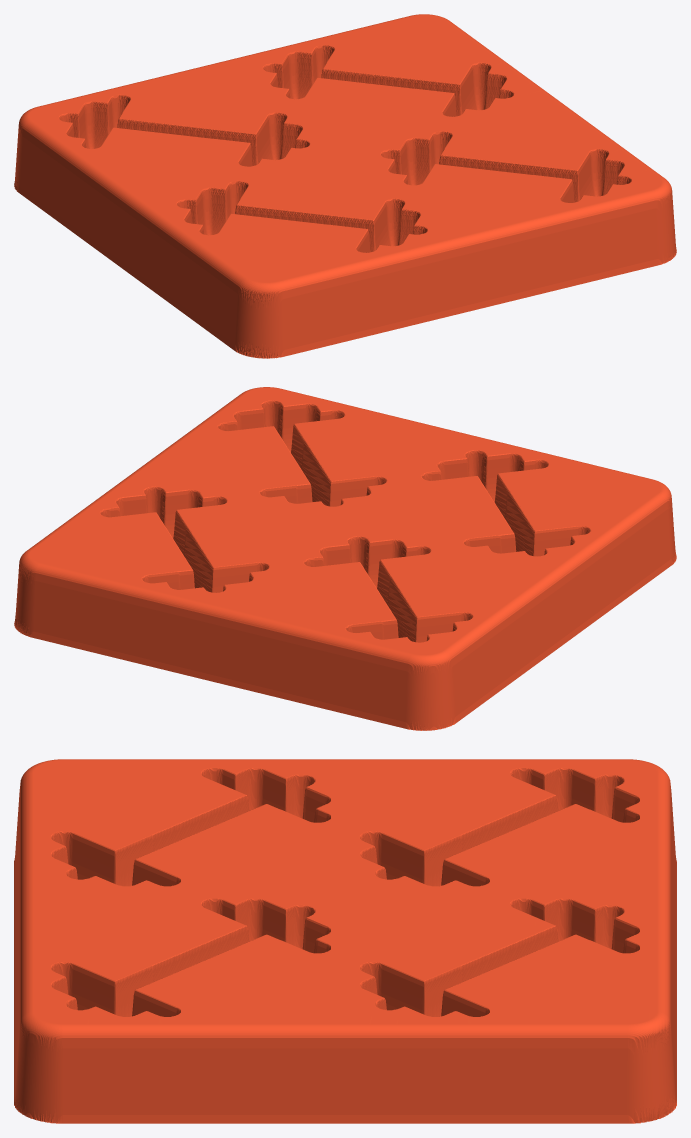
The model's file is mold.glb.
3 renders of one model, top to bottom at view 1: azimuth 30°, elevation 25°; view 2: azimuth 150°, elevation 25°; view 3: azimuth 270°, elevation 25°, orthographic. The views are drawn at different scales.
Visible parts, largest first — view 1: geometry_0; view 2: geometry_0; view 3: geometry_0.
Part boxes in pixels (x1,y1,x2,y2): geometry_0: [14, 14, 676, 358]; geometry_0: [14, 387, 676, 730]; geometry_0: [14, 759, 676, 1123].
Bounding box in the file's own units: 0.1218 × 0.0185 × 0.1218.
